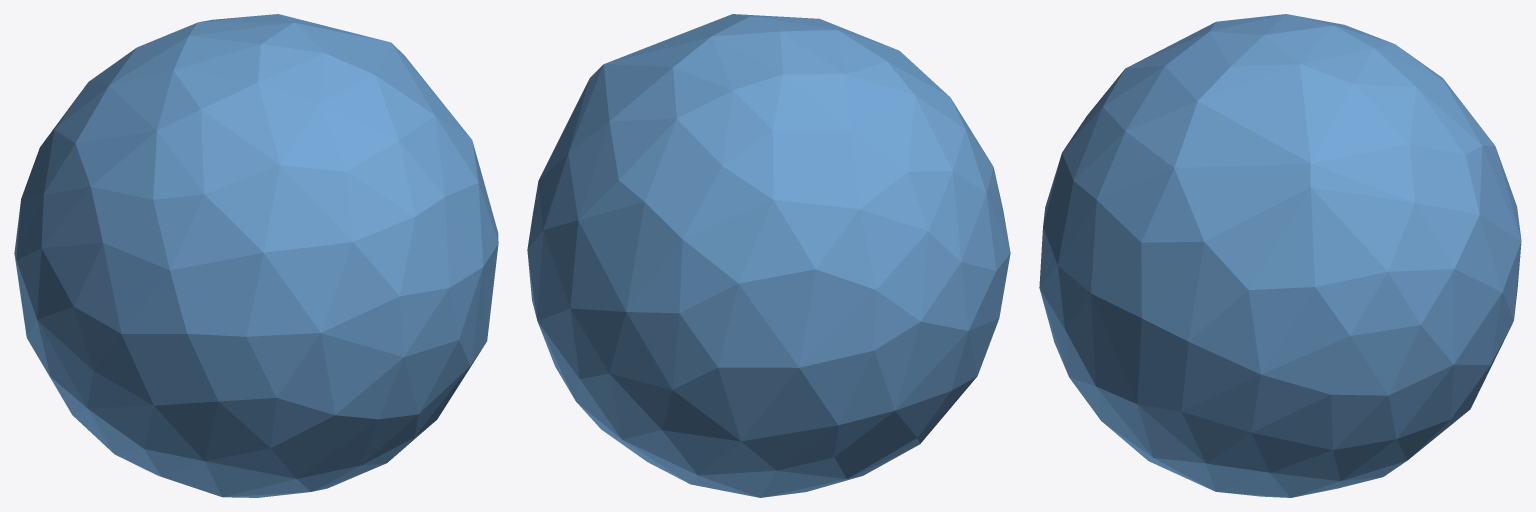
The model's file is kamino_simple.dae.
3 renders of one model, left to right at view 1: azimuth 30°, elevation 25°; view 2: azimuth 150°, elevation 25°; view 3: azimuth 270°, elevation 25°, orthographic.
Parts seen in each view (by area): view 1: kamino; view 2: kamino; view 3: kamino.
Part boxes in pixels (box(x1,y1,x2,y2)): kamino: box(14, 14, 498, 497); kamino: box(527, 14, 1010, 497); kamino: box(1039, 14, 1521, 497).
Bounding box in the file's own units: 6.04 × 5.99 × 6.03.
